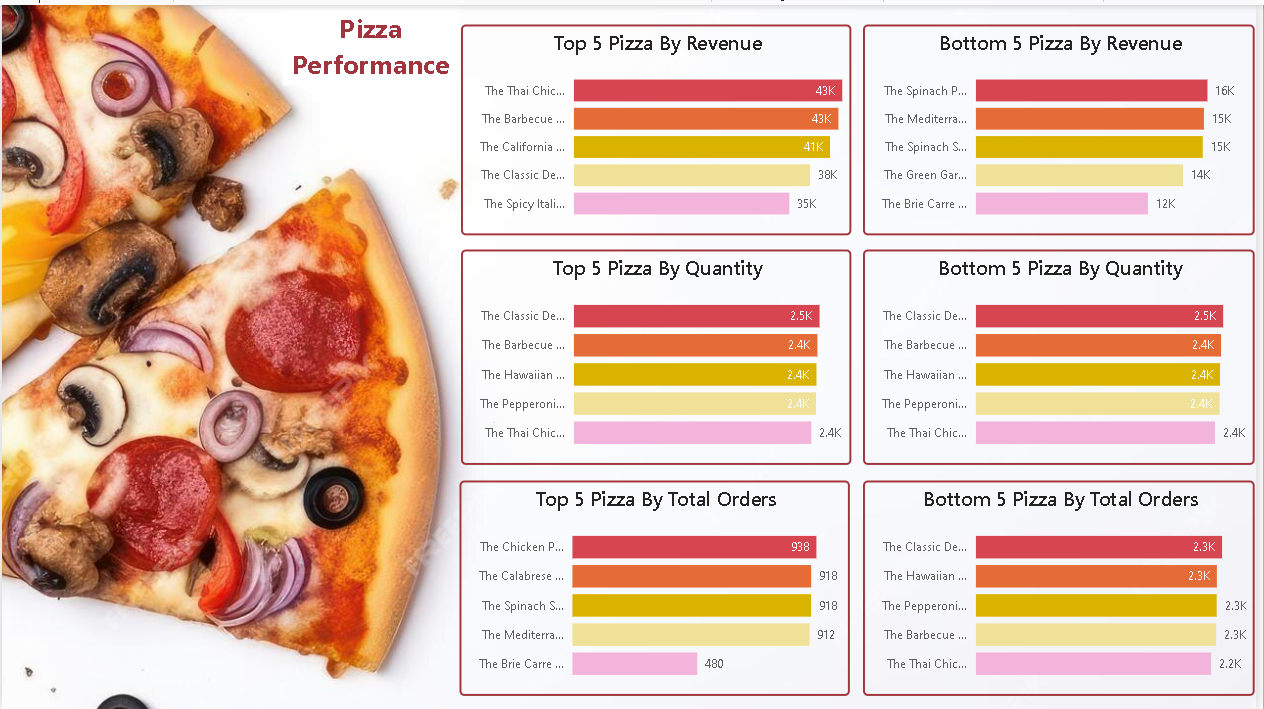

The page's visual inventory and layout, read from the dashboard file:
{"tool":"powerbi","page":{"name":"Pizza Performance","canvas":[1280,720],"ordinal":1},"visuals":[{"type":"clusteredBarChart","title":"Top 5 Pizza By Revenue","fields":{"Category":["pizza_sales.pizza_name"],"Y":["Sum(pizza_sales.total_price)"]},"box":[468.3,20,398.3,215],"z":0},{"type":"clusteredBarChart","title":"Bottom 5 Pizza By Revenue","fields":{"Category":["pizza_sales.pizza_name"],"Y":["Sum(pizza_sales.total_price)"]},"box":[880,20,400,215],"z":1000},{"type":"clusteredBarChart","title":"Top 5 Pizza By Quantity","fields":{"Category":["pizza_sales.pizza_name"],"Y":["Sum(pizza_sales.quantity)"]},"box":[468.3,250,398.3,220],"z":2000},{"type":"clusteredBarChart","title":"Bottom 5 Pizza By Quantity","fields":{"Category":["pizza_sales.pizza_name"],"Y":["Sum(pizza_sales.quantity)"]},"box":[880,250,400,220],"z":3000},{"type":"clusteredBarChart","title":"Bottom 5 Pizza By Total Orders","fields":{"Category":["pizza_sales.pizza_name"],"Y":["pizza_sales.Total_order"]},"box":[880,485,400,220],"z":4000},{"type":"clusteredBarChart","title":"Top 5 Pizza By Total Orders","fields":{"Category":["pizza_sales.pizza_name"],"Y":["pizza_sales.Total_order"]},"box":[466.7,485,398.3,220],"z":5000},{"type":"textbox","box":[286.7,0,180,81.7],"z":6000}]}

Visuals, with their boxes in screenshot pixels (x1, y1, x2, y2), scaled from the page's 1280x720 canvas onto the 1264x709 screenshot:
"Top 5 Pizza By Revenue" clusteredBarChart: (x1=462, y1=20, x2=856, y2=231)
"Bottom 5 Pizza By Revenue" clusteredBarChart: (x1=869, y1=20, x2=1263, y2=231)
"Top 5 Pizza By Quantity" clusteredBarChart: (x1=462, y1=246, x2=856, y2=463)
"Bottom 5 Pizza By Quantity" clusteredBarChart: (x1=869, y1=246, x2=1263, y2=463)
"Bottom 5 Pizza By Total Orders" clusteredBarChart: (x1=869, y1=478, x2=1263, y2=694)
"Top 5 Pizza By Total Orders" clusteredBarChart: (x1=461, y1=478, x2=854, y2=694)
textbox: (x1=283, y1=0, x2=461, y2=80)
